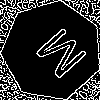M: (27, 26, 89, 87)
